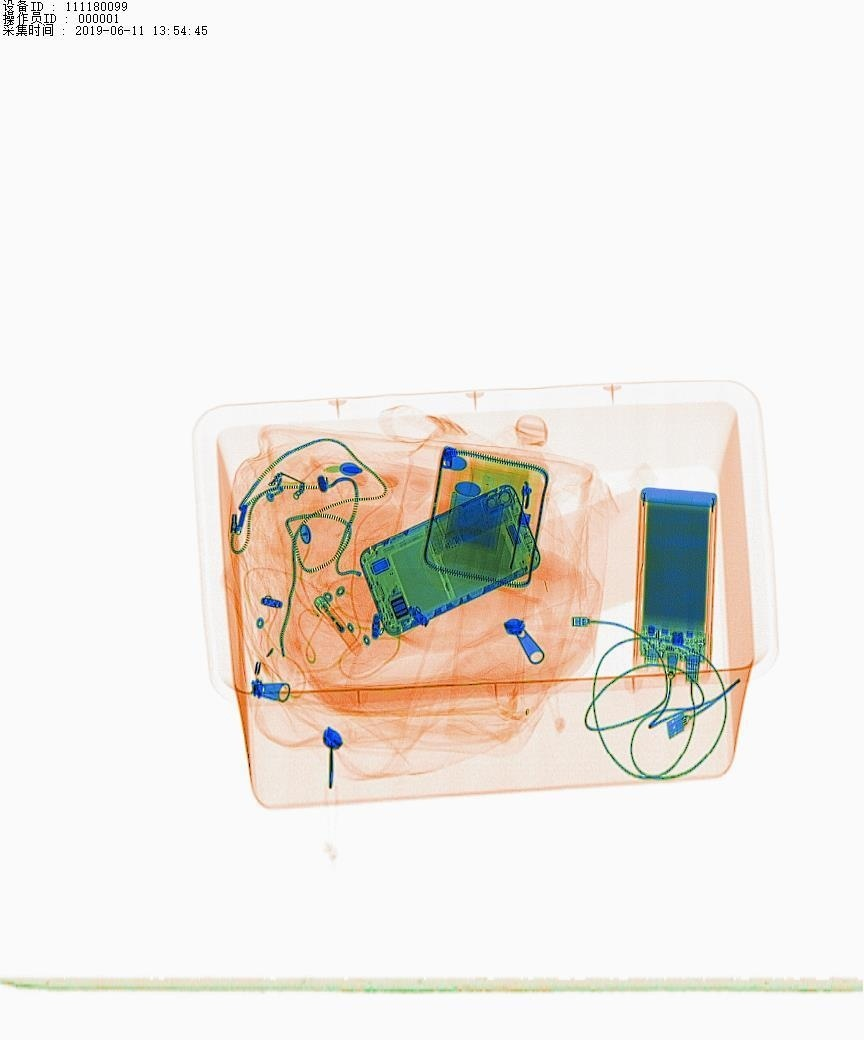NonmetallicFire: (297, 570, 378, 678)
